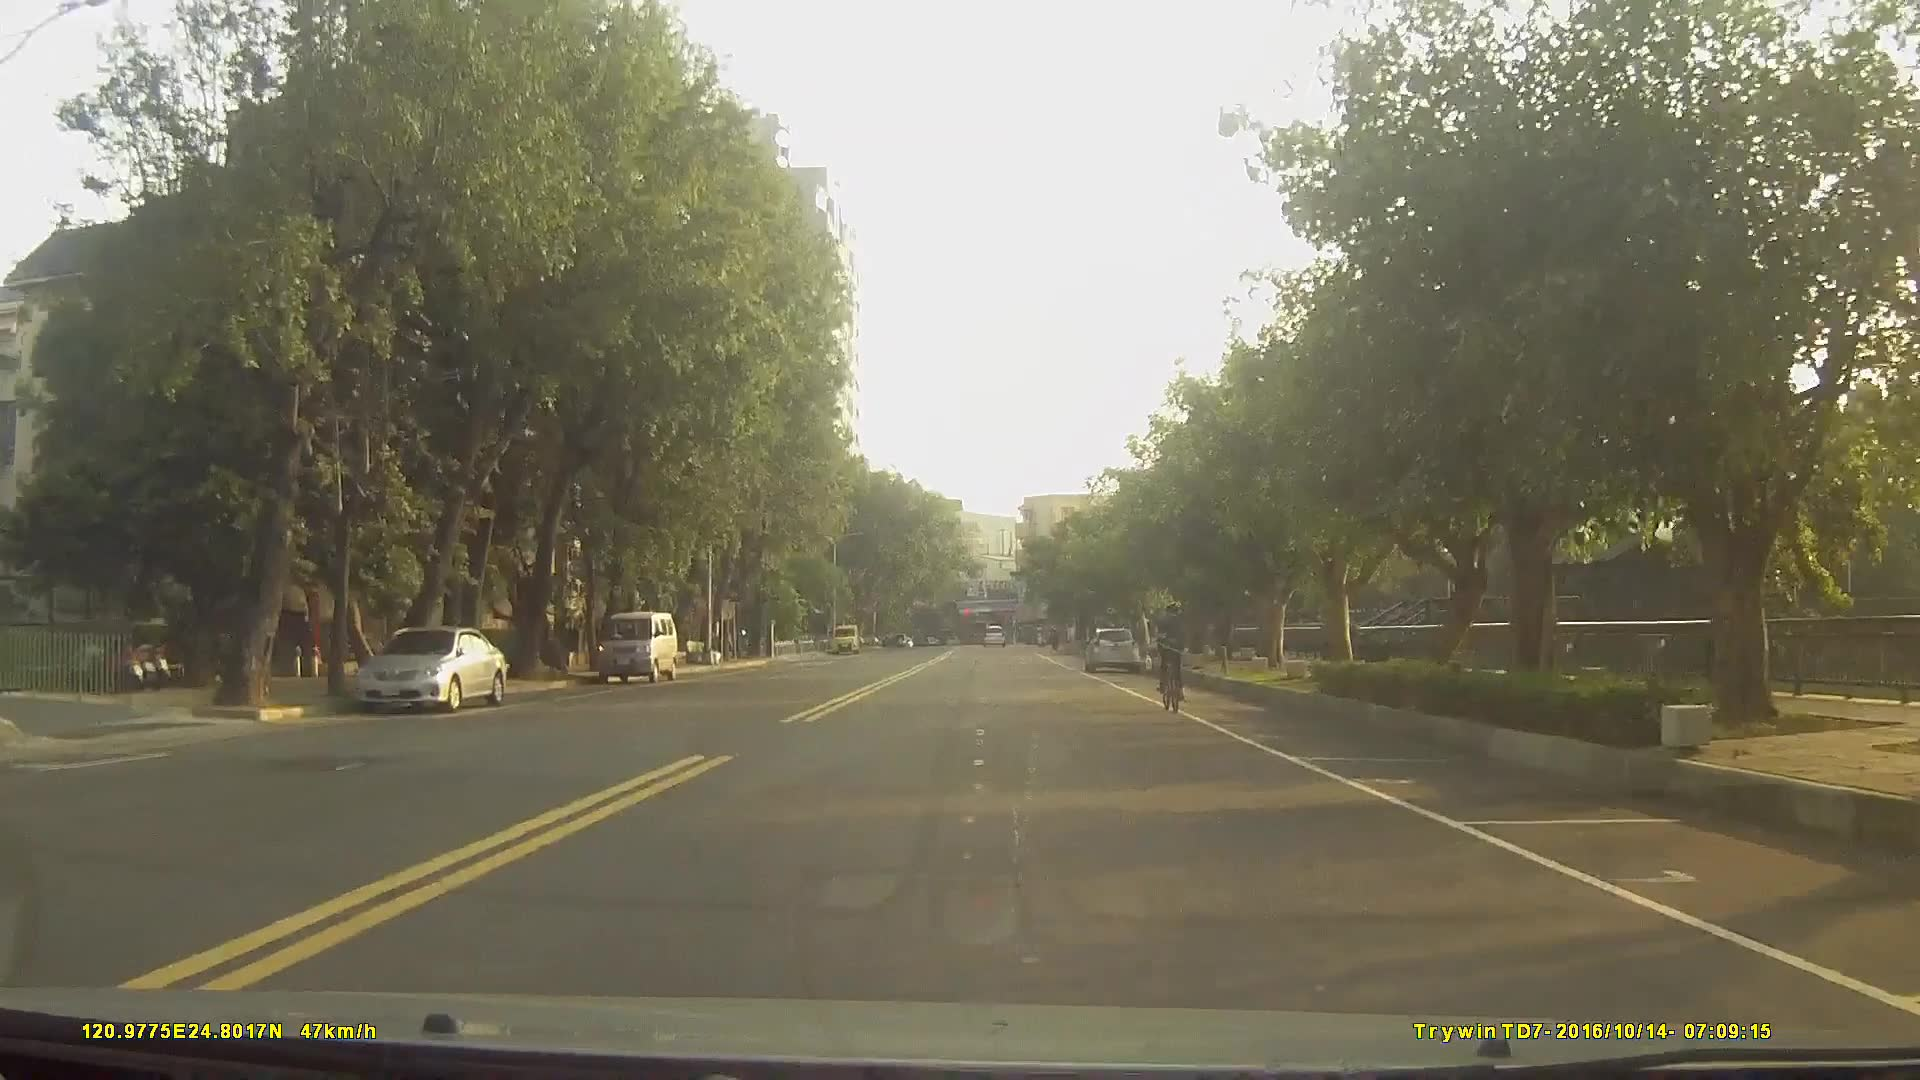rider: (1154, 600, 1192, 715)
vehicle: (349, 622, 507, 713), (595, 609, 679, 682), (1083, 626, 1139, 674), (980, 624, 1007, 652)
